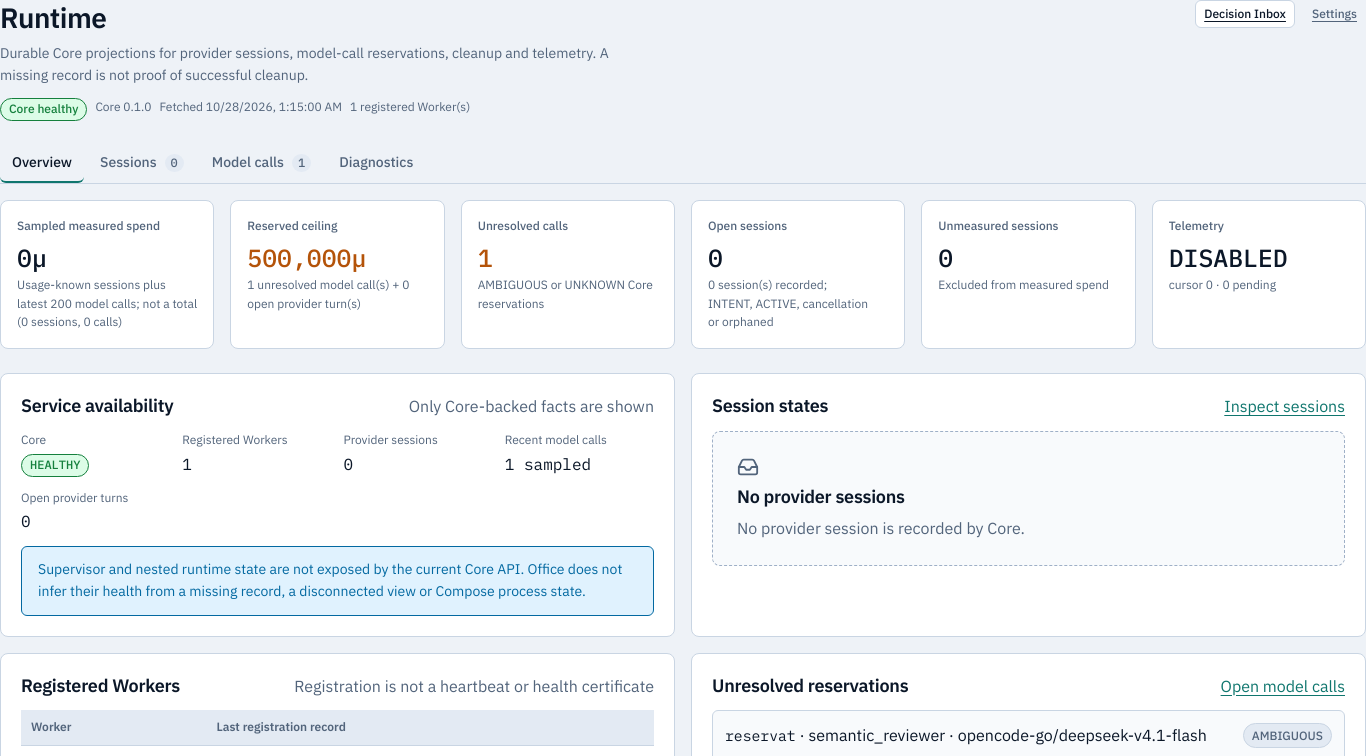
Runtime › separates measured, reserved and unresolved runtime state
Check: the heading "Runtime" is shown, box [0,0,106,36]
Check: the text "Reserved ceiling" is shown, box [247,218,338,233]
Click the tab "Sessions 0" at (142, 164), box [88,145,196,183]
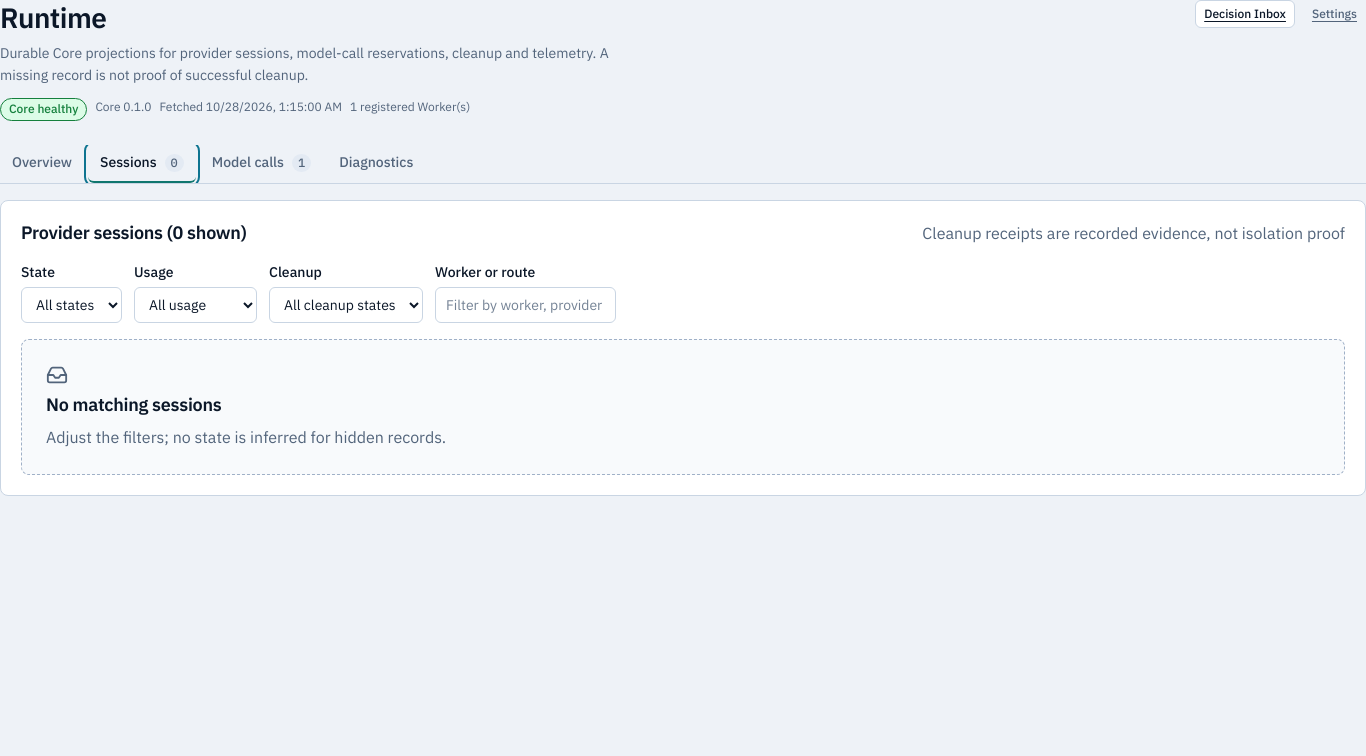
Check: the heading "Provider sessions (0 shown)" is shown, box [21,222,246,244]
Check: the heading "No matching sessions" is shown, box [46,394,222,417]
